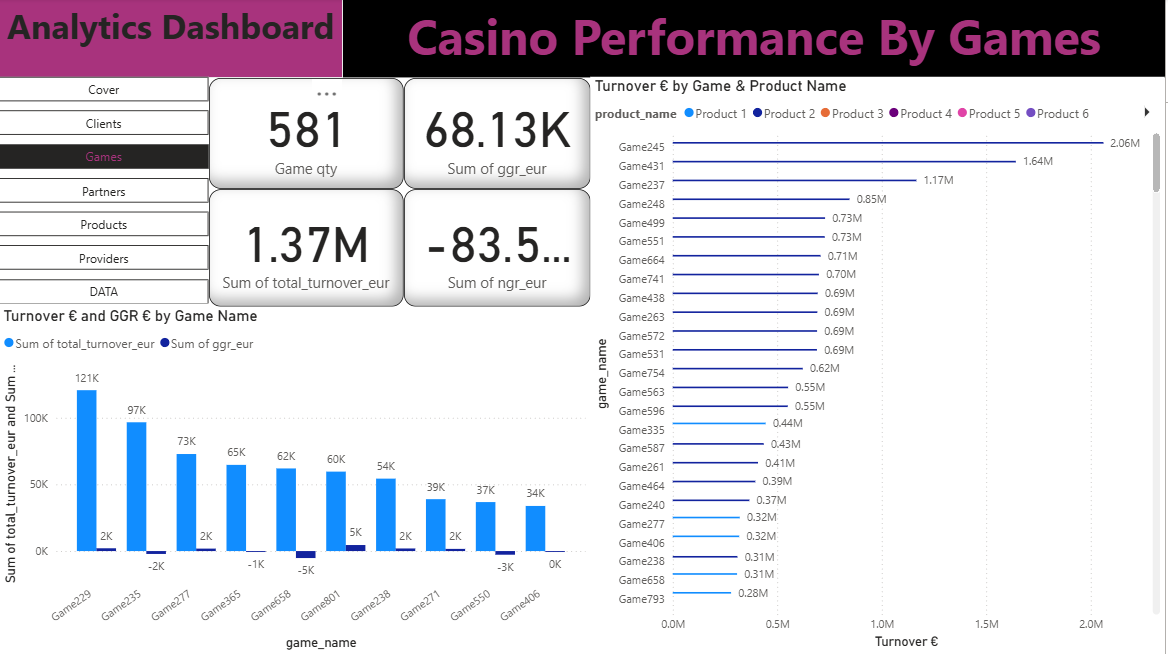

Layout of this report page (visuals, bound fields, positions):
{"tool":"powerbi","page":{"name":"Games","canvas":[1280,720],"ordinal":2},"visuals":[{"type":"card","fields":{"Values":["Sum(casino metrics_by_game.total_turnover_eur)"]},"box":[230.8,209.3,213.6,129],"z":0},{"type":"card","fields":{"Values":["Sum(casino metrics_by_game.ggr_eur)"]},"box":[444.4,87.5,205,121.9],"z":1000},{"type":"card","fields":{"Values":["Sum(casino metrics_by_game.ngr_eur)"]},"box":[444.4,209.3,205,129],"z":2000},{"type":"card","fields":{"Values":["Table.Game qyt"]},"box":[230.8,87.5,213.6,121.9],"z":3000},{"type":"textbox","box":[377.1,0,903.2,87.5],"z":4000},{"type":"textbox","box":[0,0,377.1,87.5],"z":5000},{"type":"clusteredColumnChart","title":"Turnover € and GGR €  by Game Name","fields":{"Category":["casino games.game_name"],"Y":["Sum(casino metrics_by_game.total_turnover_eur)","Sum(casino metrics_by_game.ggr_eur)"]},"box":[0,338.7,649.1,381.6],"z":6000},{"type":"clusteredBarChart","title":"Turnover € by Game & Product Name","fields":{"Category":["casino games.game_name"],"Series":["casino products.product_name"],"Y":["Table.Turnover €"]},"box":[649.1,87.1,630.7,633.1],"z":7000},{"type":"pageNavigator","box":[0,87.1,230.7,251.5],"z":8000}]}

Visuals, with their boxes in screenshot pixels (x1, y1, x2, y2), scaled from the page's 1280x720 canvas onto the 1168x654 screenshot:
card - Sum(casino metrics_by_game.total_turnover_eur): <box>211,190,406,307</box>
card - Sum(casino metrics_by_game.ggr_eur): <box>406,79,593,190</box>
card - Sum(casino metrics_by_game.ngr_eur): <box>406,190,593,307</box>
card - Table.Game qyt: <box>211,79,406,190</box>
textbox: <box>344,0,1167,79</box>
textbox: <box>0,0,344,79</box>
"Turnover € and GGR €  by Game Name" clusteredColumnChart: <box>0,308,592,653</box>
"Turnover € by Game & Product Name" clusteredBarChart: <box>592,79,1167,653</box>
pageNavigator: <box>0,79,211,308</box>
